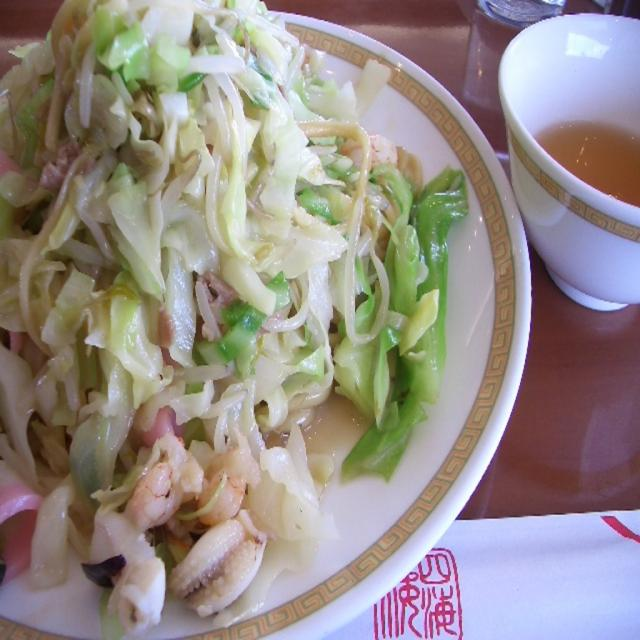Tea: (532, 124, 639, 212)
